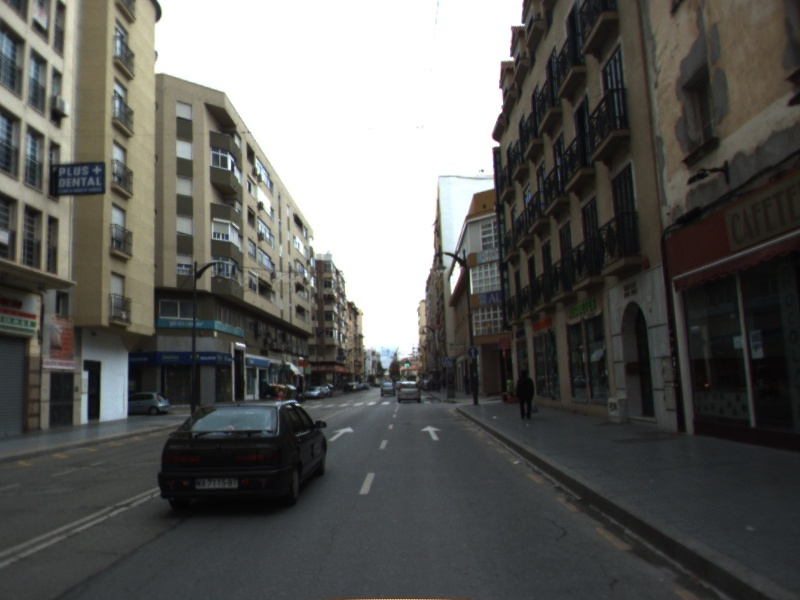STRAIGHT: (326, 425, 356, 443), (418, 424, 444, 442)
